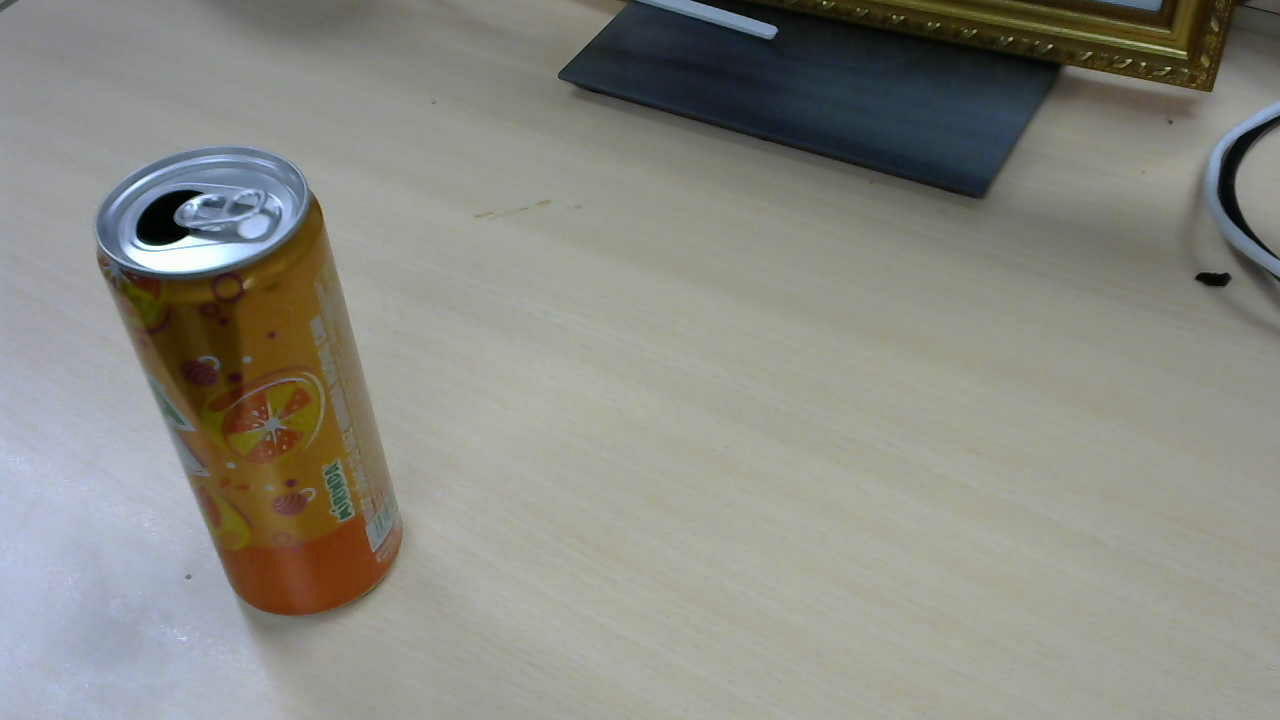Mirinda: (100, 153, 408, 620)
